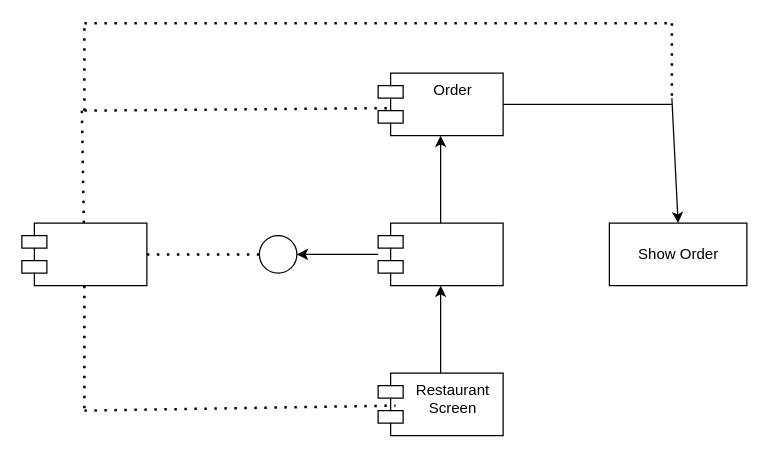
Some shapes in this 769 by 458 pixel diagram are drawn without their labels. The centre of each missing label's shape, as x and y in pixels:
"Add/Remove Menu Items" belongs at point 440,254.
"DataBase" belongs at point 84,254.
